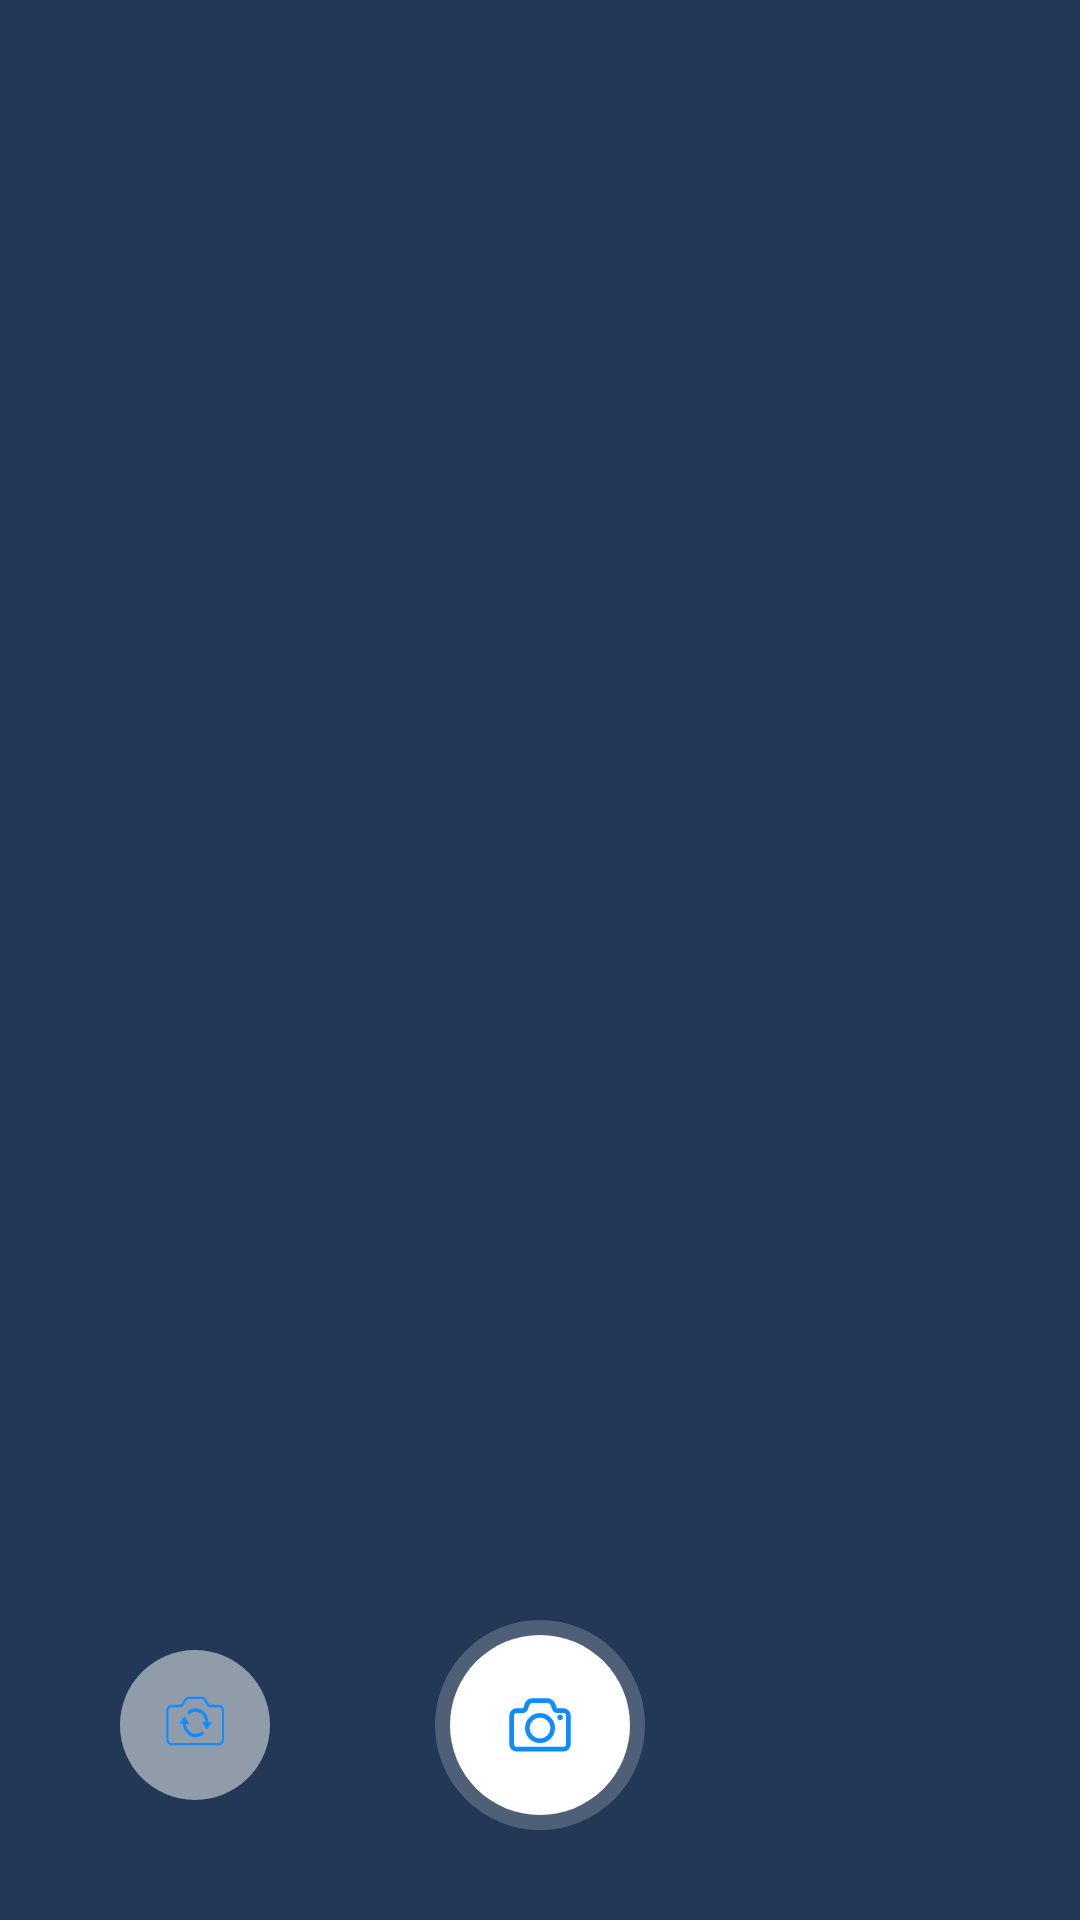

Named icons in this screenshot (1080w x 1920h) and their centers, [x,y]:
cam: [540,1725]
switch camera: [195,1721]
